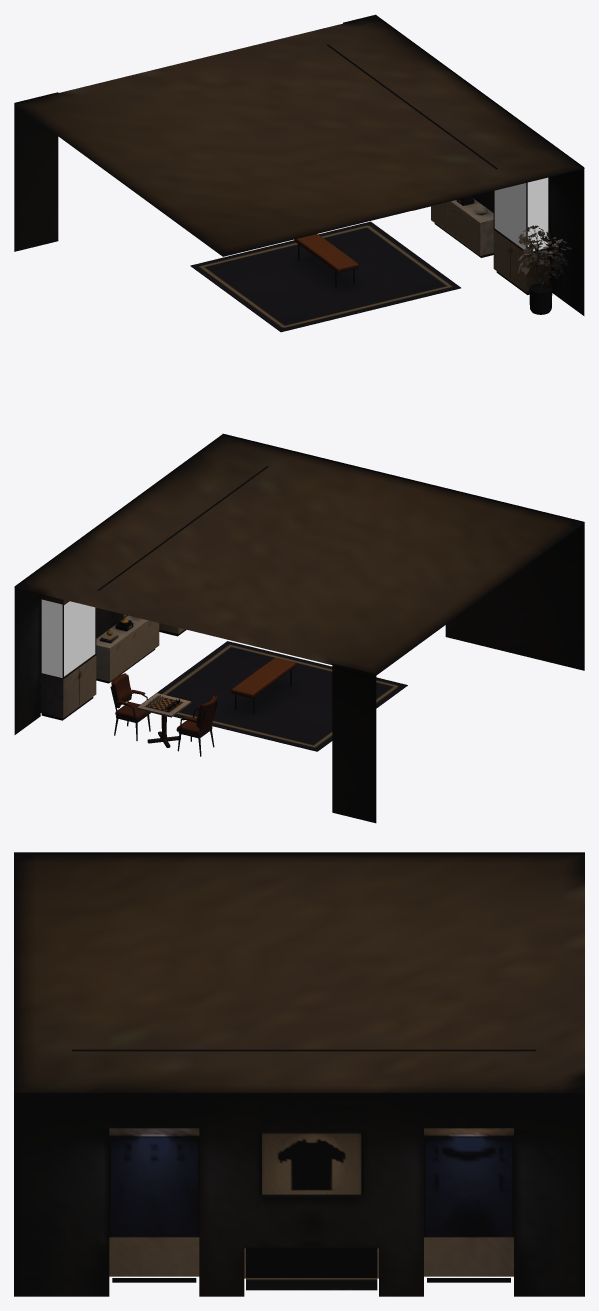
File: trophy.glb
3 renders of one model, top to bottom at view 1: azimuth 30°, elevation 25°; view 2: azimuth 150°, elevation 25°; view 3: azimuth 270°, elevation 25°, orthographic. The views are drawn at different scales.
Visible parts, largest first — view 1: trophy__roof__vtx, trophy__upper__vtx, trophy__upper__raw; view 2: trophy__roof__vtx, trophy__upper__vtx, trophy__upper__raw; view 3: trophy__roof__vtx, trophy__upper__vtx.
Part boxes in pixels (box(x1,y1,x2,y2)): trophy__roof__vtx: box(14, 16, 584, 256); trophy__upper__vtx: box(14, 14, 584, 332); trophy__upper__raw: box(494, 177, 548, 251); trophy__roof__vtx: box(14, 435, 584, 675); trophy__upper__vtx: box(14, 433, 584, 823); trophy__upper__raw: box(41, 599, 95, 677); trophy__roof__vtx: box(14, 854, 584, 1094); trophy__upper__vtx: box(14, 852, 584, 1296).
Bounding box in the file's own units: 7.63 × 3 × 7.63.
